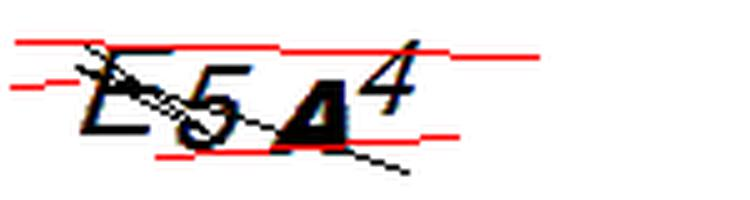4: (353, 29, 429, 120)
5: (172, 59, 257, 157)
A: (265, 73, 361, 163)
E: (74, 38, 177, 141)
